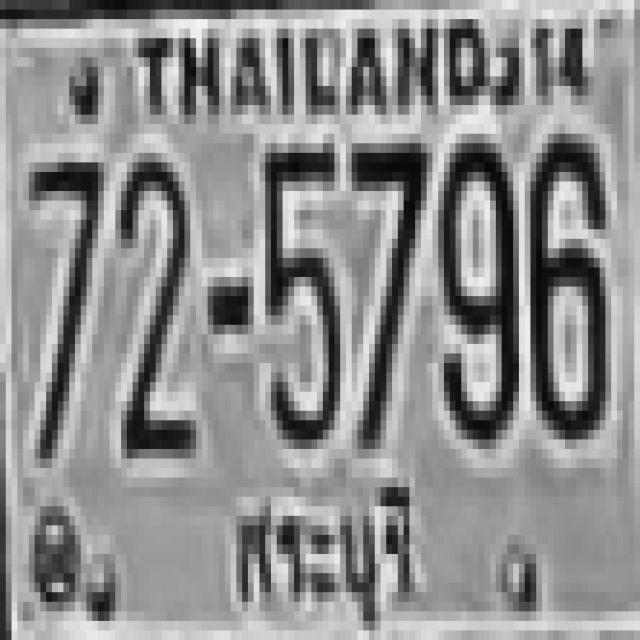2: (116, 153, 190, 449)
5: (260, 134, 340, 439)
6: (525, 124, 605, 430)
7: (26, 153, 101, 458), (349, 134, 424, 439), (349, 134, 424, 392)
9: (438, 134, 513, 439)
SaraBuri: (211, 467, 427, 632)
